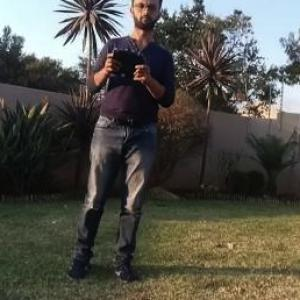follow: (62, 0, 183, 292)
